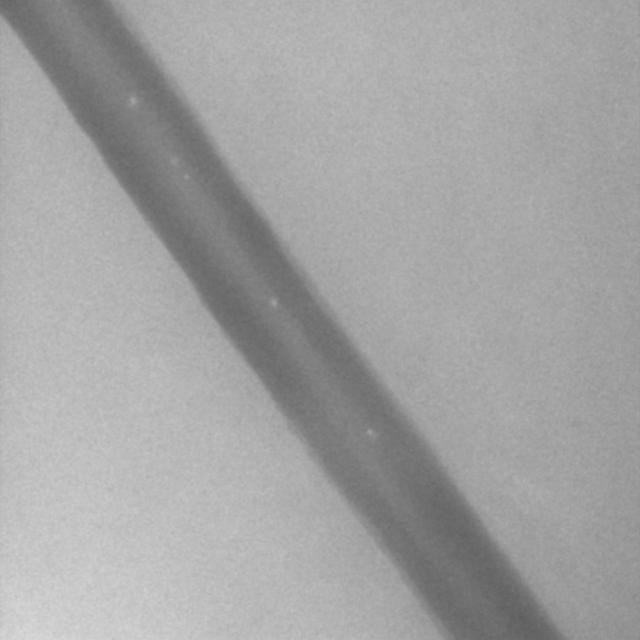air-hole: (170, 151, 180, 165), (269, 295, 282, 305), (368, 427, 378, 438), (129, 93, 138, 104), (185, 175, 191, 184)
